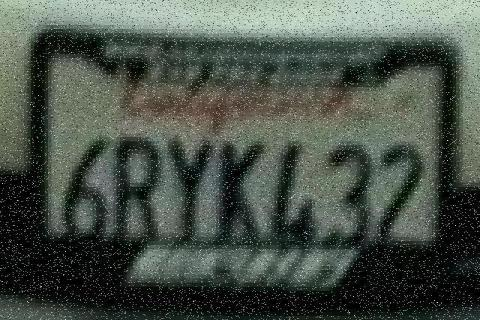LicensePlate: (28, 18, 468, 266)
